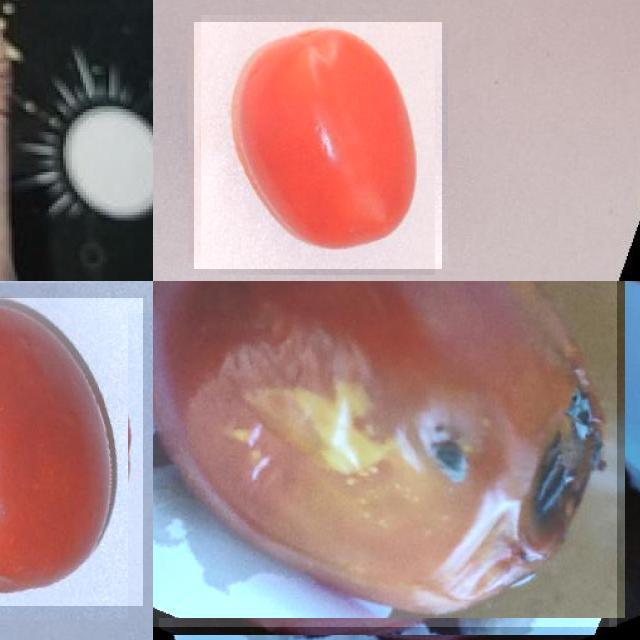Fresh Tomato: (194, 22, 442, 269), (0, 298, 143, 605)
Rotten Tomato: (153, 281, 617, 626)
